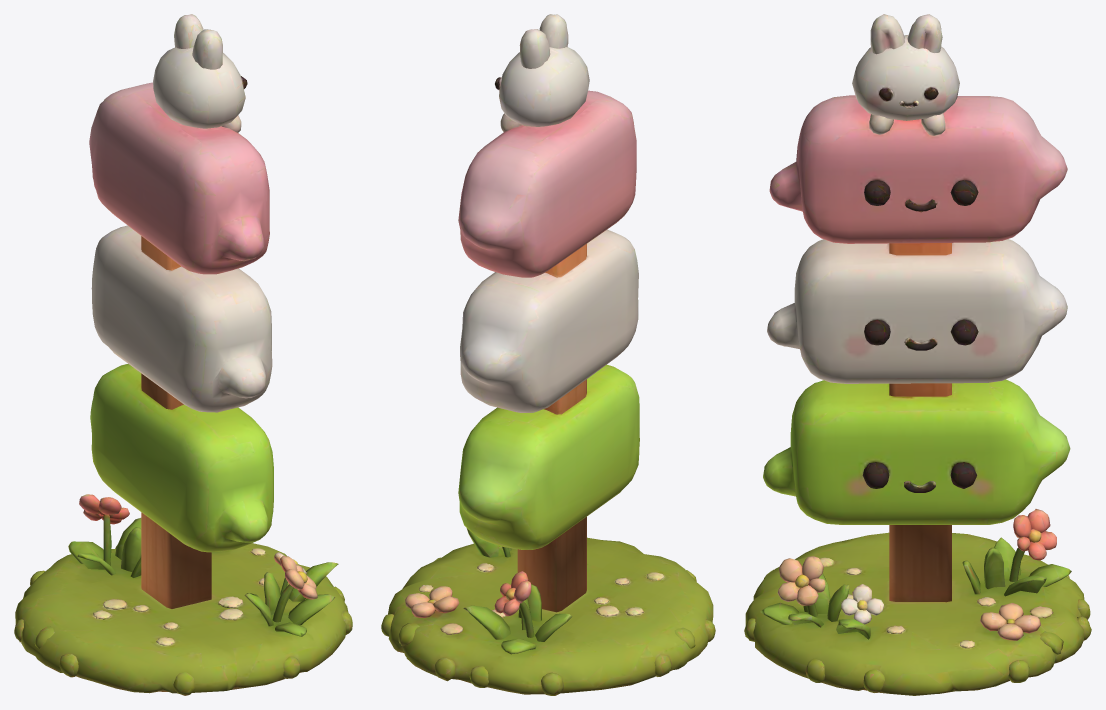
The model's file is dango-signpost.glb.
The picture shows the model from 3 angles, left to right: view 1: azimuth 30°, elevation 25°; view 2: azimuth 150°, elevation 25°; view 3: azimuth 270°, elevation 25°; orthographic projection. The views are drawn at different scales.
Parts seen in each view (by area): view 1: tripo_node_a32607de-2ac4-48d5-acf1-35d280de63b2; view 2: tripo_node_a32607de-2ac4-48d5-acf1-35d280de63b2; view 3: tripo_node_a32607de-2ac4-48d5-acf1-35d280de63b2.
Boxes of the visible parts, <box> form: tripo_node_a32607de-2ac4-48d5-acf1-35d280de63b2: <box>14,14,352,695</box>; tripo_node_a32607de-2ac4-48d5-acf1-35d280de63b2: <box>381,14,715,695</box>; tripo_node_a32607de-2ac4-48d5-acf1-35d280de63b2: <box>744,14,1091,695</box>.
Size of the model in its own units: 0.498 by 0.998 by 0.5098.
Materials: 1 (1 with a texture image).
